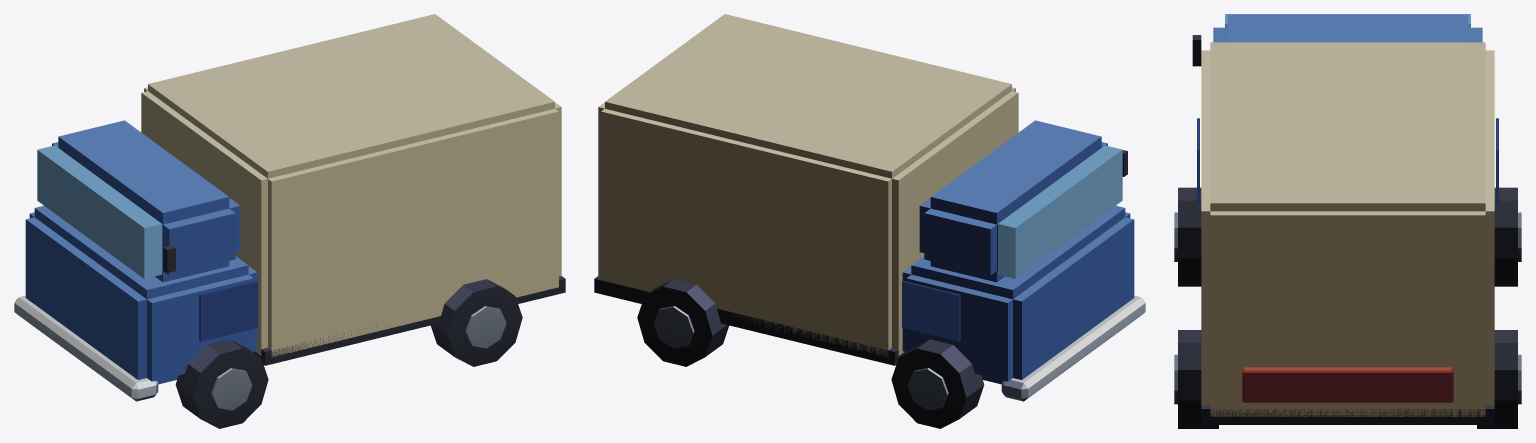
The model's file is truck.glb.
3 renders of one model, left to right at view 1: azimuth 30°, elevation 25°; view 2: azimuth 150°, elevation 25°; view 3: azimuth 270°, elevation 25°, orthographic. The views are drawn at different scales.
Parts seen in each view (by area): view 1: truck; view 2: truck; view 3: truck.
Part boxes in pixels (box(x1,y1,x2,y2)): truck: box(14, 14, 565, 428); truck: box(594, 14, 1145, 428); truck: box(1174, 14, 1521, 428).
Bounding box in the file's own units: 1.98 × 1 × 1.18.
